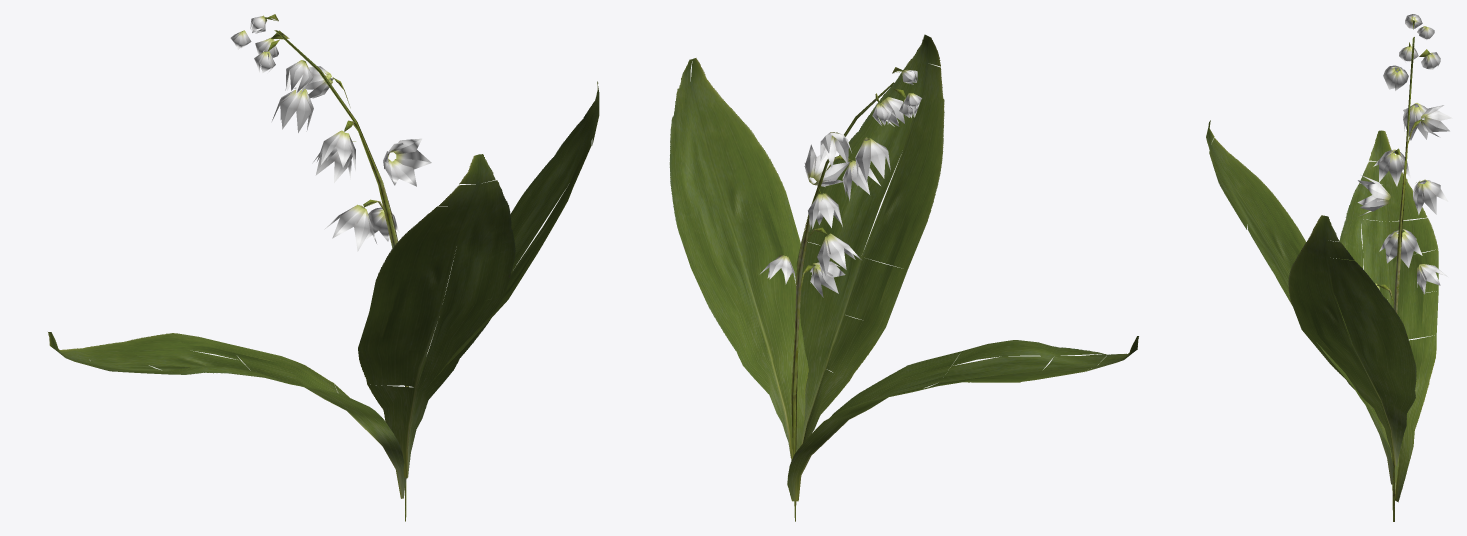
File: Lily_of_the_Valley_Model_0.obj
The picture shows the model from 3 angles, left to right: view 1: azimuth 30°, elevation 25°; view 2: azimuth 150°, elevation 25°; view 3: azimuth 270°, elevation 25°; orthographic projection. The views are drawn at different scales.
Parts seen in each view (by area): view 1: Foliage; view 2: Foliage; view 3: Foliage.
Part boxes in pixels (<box>): Foliage: <box>48,14,599,521</box>; Foliage: <box>669,34,1138,521</box>; Foliage: <box>1206,14,1452,521</box>.
Bounding box in the file's own units: 0.272 × 0.25 × 0.129.
1 material, 1 textured.
